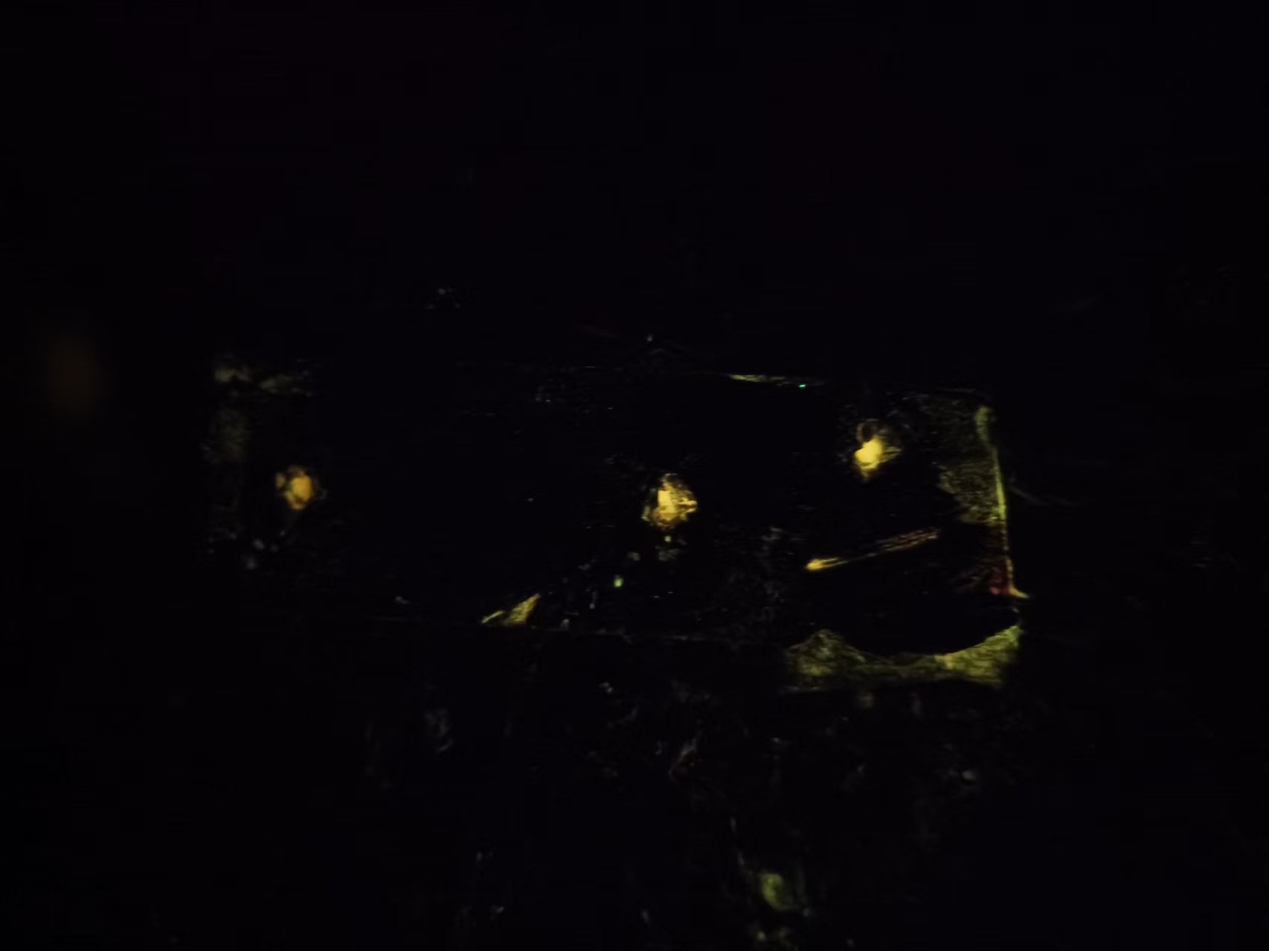Crater: (608, 469, 726, 551), (825, 420, 926, 501), (260, 454, 346, 531)
